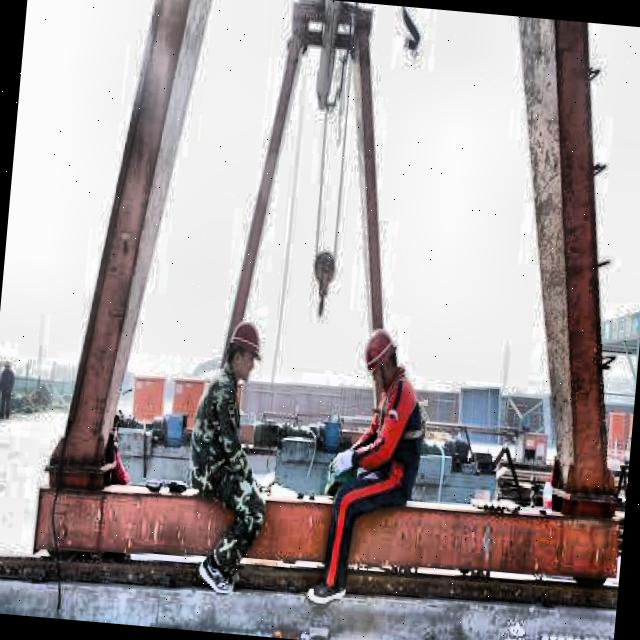helmet: (224, 317, 268, 389), (359, 325, 402, 391)
